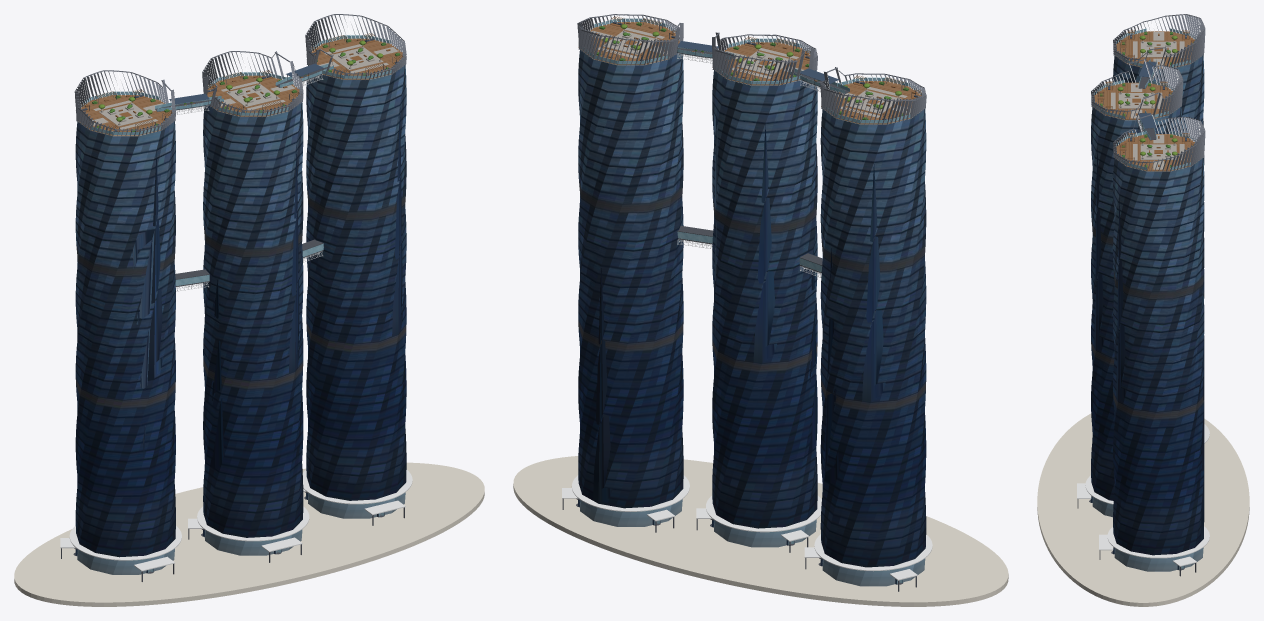
The model's file is towers_ar.glb.
The picture shows the model from 3 angles, left to right: view 1: azimuth 30°, elevation 25°; view 2: azimuth 150°, elevation 25°; view 3: azimuth 270°, elevation 25°; orthographic projection. The views are drawn at different scales.
Visible parts, largest first — view 1: Twisted_Towers, Base; view 2: Twisted_Towers, Base; view 3: Twisted_Towers, Base.
Part boxes in pixels (x1=…): Twisted_Towers: x1=60, y1=14, x2=412, y2=581; Base: x1=14, y1=462, x2=484, y2=606; Twisted_Towers: x1=562, y1=14, x2=932, y2=591; Base: x1=513, y1=456, x2=1008, y2=606; Twisted_Towers: x1=1077, y1=14, x2=1209, y2=576; Base: x1=1037, y1=413, x2=1249, y2=606.
Bounding box in the file's own units: 1.1 × 1.08 × 0.4857.
Materials: 32 (24 with a texture image).
